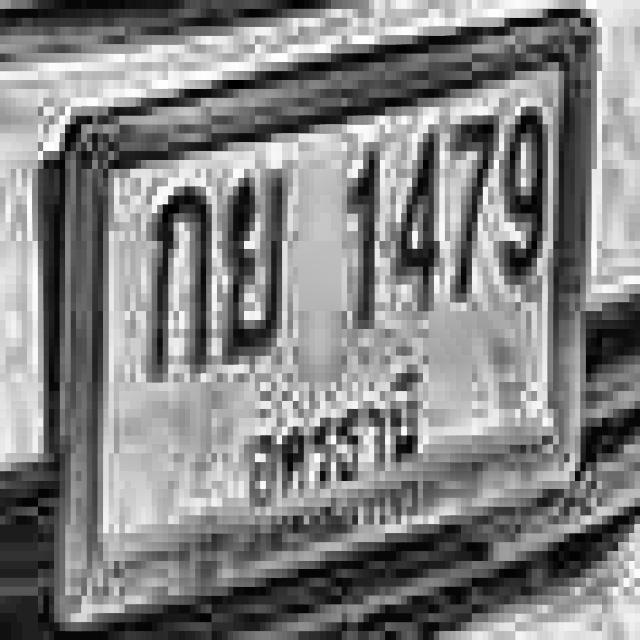license-plate: (53, 8, 609, 640)
